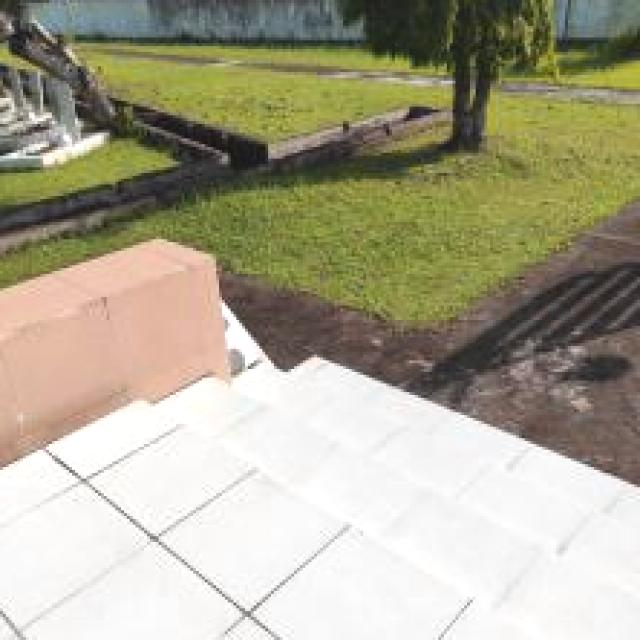downstair: (154, 358, 640, 598)
